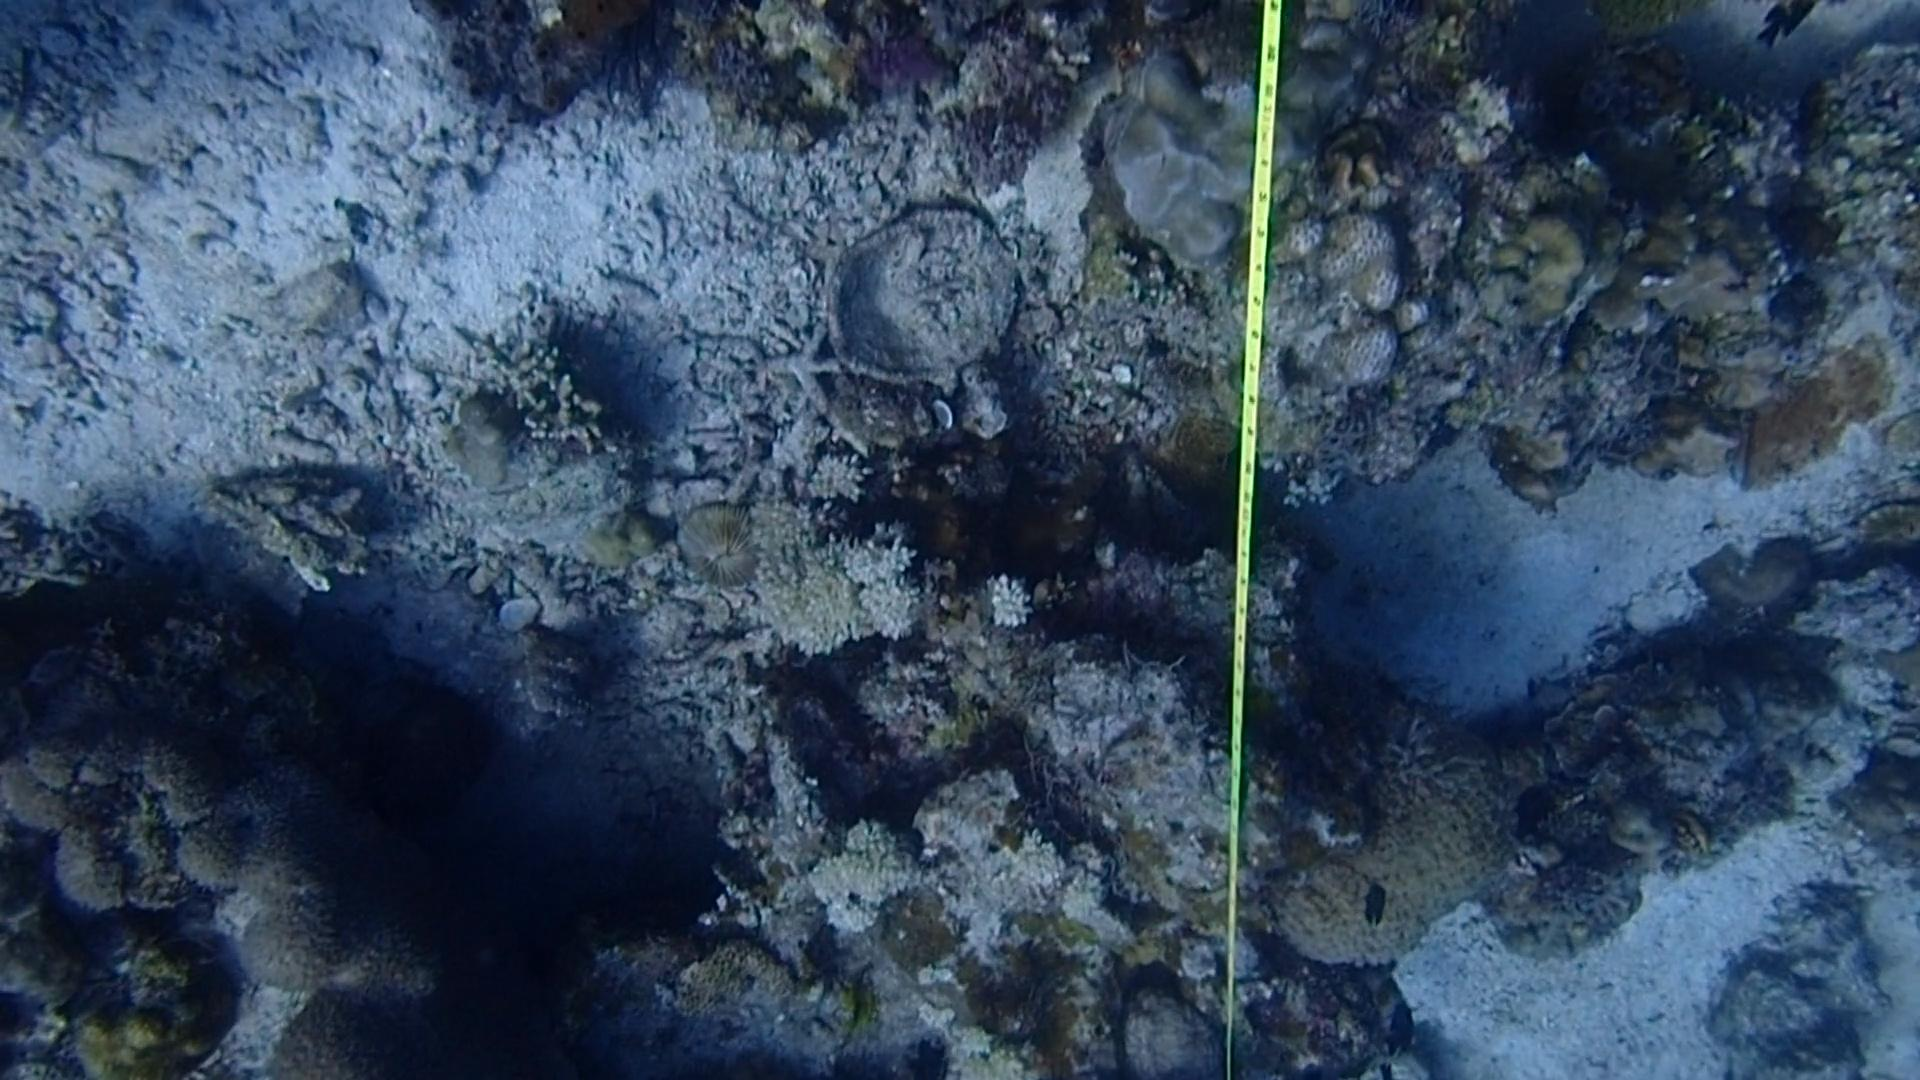Dark Fish: (1503, 773, 1571, 852), (1345, 877, 1402, 938), (1375, 989, 1422, 1060)
